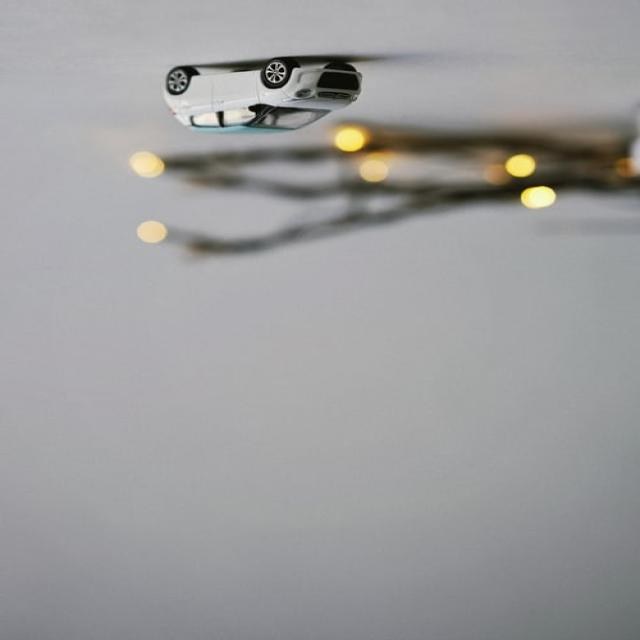Car: (164, 58, 363, 135)
